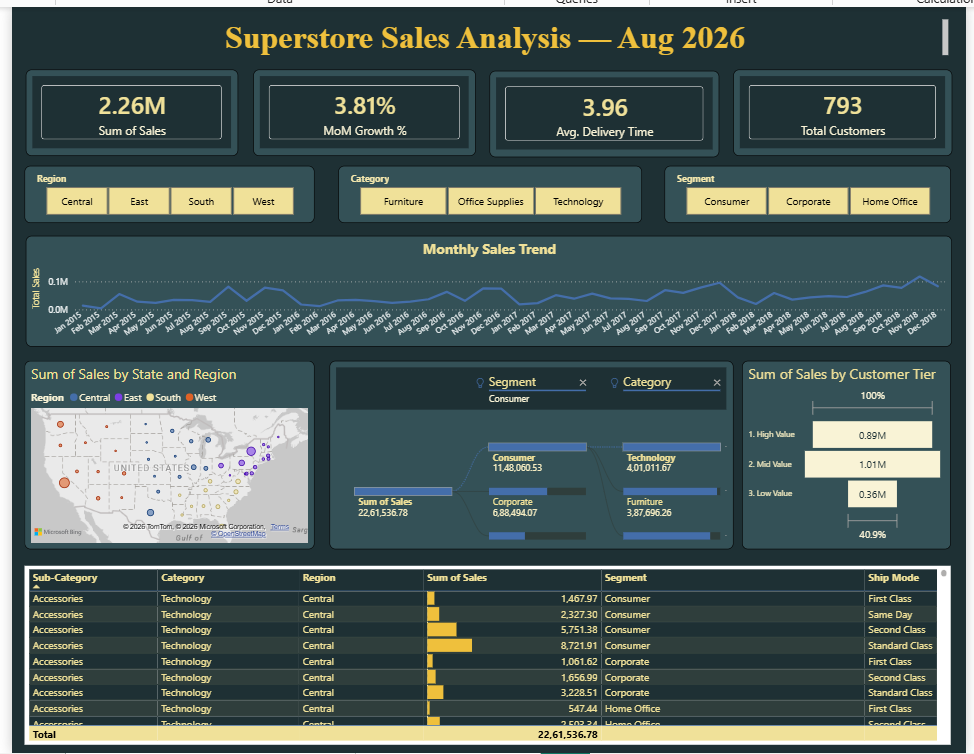

The page's visual inventory and layout, read from the dashboard file:
{"tool":"powerbi","page":{"name":"Superstore Sales Analysis Overview","canvas":[1280,1000],"ordinal":0},"visuals":[{"type":"cardVisual","fields":{"Data":["Sum(train.Sales)"]},"box":[18.4,83.8,284.9,115.6],"z":0},{"type":"cardVisual","fields":{"Data":["train.Avg Shipping Days"]},"box":[640.1,85.5,308.3,115.6],"z":1000},{"type":"cardVisual","fields":{"Data":["train.MoM Growth %"]},"box":[323.4,83.8,298.3,115.6],"z":2000},{"type":"cardVisual","fields":{"Data":["Count(train.Customer ID)"]},"box":[966.8,83.8,293.2,115.6],"z":3000},{"type":"slicer","fields":{"Values":["train.Region"]},"box":[16.8,212.8,388.7,77.1],"z":4000},{"type":"slicer","fields":{"Values":["train.Category"]},"box":[437.3,212.8,407.2,77.1],"z":5000},{"type":"slicer","fields":{"Values":["train.Segment"]},"box":[874.7,212.8,383.7,77.1],"z":6000},{"type":"lineChart","title":"Monthly Sales Trend","fields":{"Y":["train.Total Sales"],"Category":["Calendar.Month Year"]},"box":[18.4,306.6,1241.6,149.1],"z":7000},{"type":"map","fields":{"Category":["train.State"],"Size":["Sum(train.Sales)"],"Series":["train.Region"]},"box":[16.8,474.2,388.7,253],"z":8000},{"type":"decompositionTreeVisual","fields":{"Analyze":["Sum(train.Sales)"],"ExplainBy":["train.Segment","train.Category","train.Region","train.Sub-Category"]},"box":[425.6,474.2,541.2,253],"z":9000},{"type":"funnel","fields":{"Category":["train.Customer Tier"],"Y":["Sum(train.Sales)"]},"box":[978.6,474.2,279.8,253],"z":10000},{"type":"tableEx","fields":{"Values":["train.Sub-Category","train.Category","train.Region","Sum(train.Sales)","train.Segment","train.Ship Mode"]},"box":[16.8,749,1241.6,239.6],"z":11000},{"type":"textbox","box":[16.8,11.7,1243.3,58.6],"z":12000}]}

Visuals, with their boxes on the page's 1280x1000 design canvas (x1, y1, x2, y2). These are canvas units, not pixel positions in the 974x754 screenshot, which may show the page scaled, cropped or inside an application window:
cardVisual - Sum(train.Sales): <box>18,84,303,199</box>
cardVisual - train.Avg Shipping Days: <box>640,86,948,201</box>
cardVisual - train.MoM Growth %: <box>323,84,622,199</box>
cardVisual - Count(train.Customer ID): <box>967,84,1260,199</box>
slicer - train.Region: <box>17,213,406,290</box>
slicer - train.Category: <box>437,213,844,290</box>
slicer - train.Segment: <box>875,213,1258,290</box>
"Monthly Sales Trend" lineChart: <box>18,307,1260,456</box>
map - train.State x Sum(train.Sales): <box>17,474,406,727</box>
decompositionTreeVisual - Sum(train.Sales) x train.Segment: <box>426,474,967,727</box>
funnel - train.Customer Tier x Sum(train.Sales): <box>979,474,1258,727</box>
tableEx - train.Sub-Category x train.Category: <box>17,749,1258,989</box>
textbox: <box>17,12,1260,70</box>
